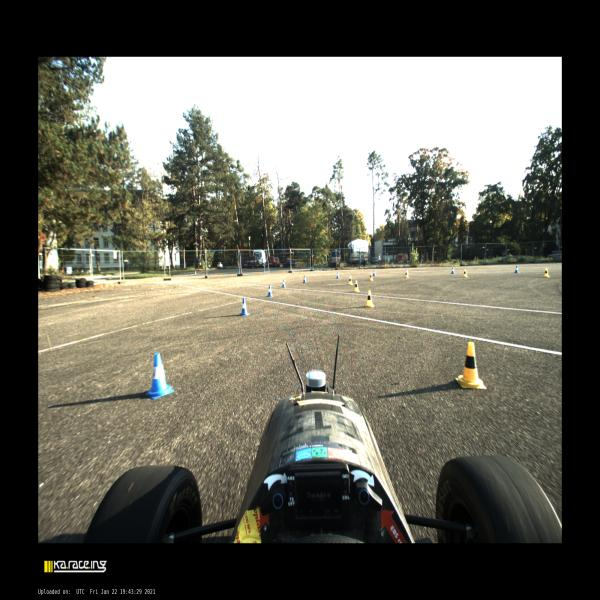blue_cone: (146, 353, 174, 399), (239, 298, 250, 316), (268, 285, 272, 297), (281, 279, 286, 287), (514, 265, 519, 273), (302, 275, 306, 283), (405, 268, 409, 274), (336, 272, 339, 279), (451, 267, 454, 274), (373, 270, 376, 276)
yellow_cone: (456, 342, 487, 389), (365, 290, 374, 307), (544, 267, 549, 277), (355, 280, 359, 292), (464, 268, 468, 277), (348, 276, 352, 284), (405, 271, 409, 278), (369, 274, 373, 280)
